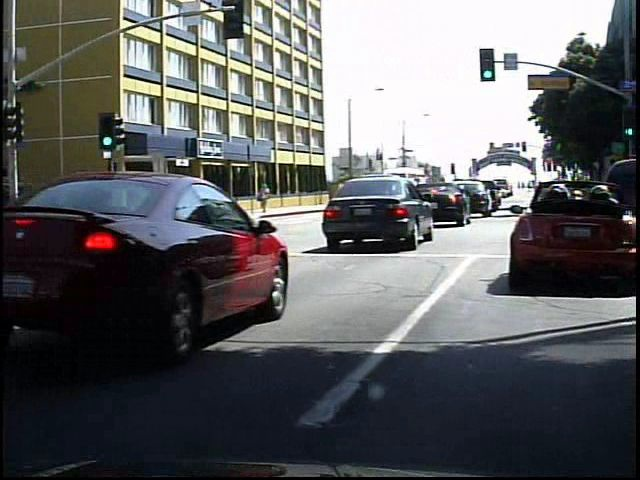person: (252, 179, 271, 218)
